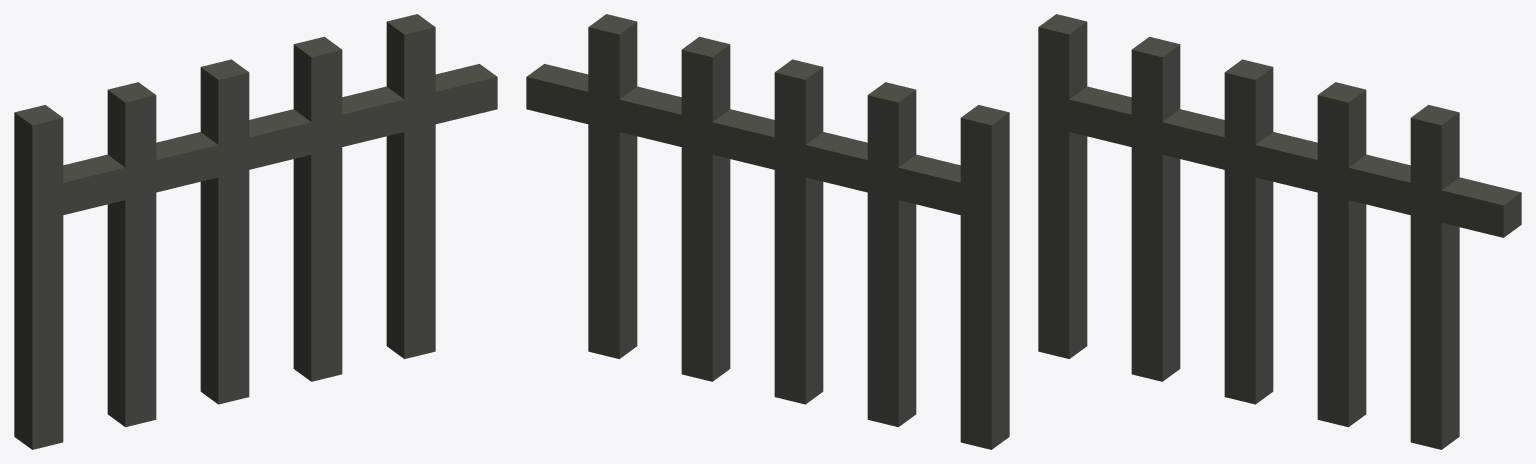
File: church-70-gy_fencemetalal.obj
3 renders of one model, left to right at view 1: azimuth 30°, elevation 25°; view 2: azimuth 150°, elevation 25°; view 3: azimuth 330°, elevation 25°, orthographic.
Visible parts, largest first — view 1: gy_fencemetalal; view 2: gy_fencemetalal; view 3: gy_fencemetalal.
Part boxes in pixels (x1,y1,x2,y2): gy_fencemetalal: (14,14,497,449); gy_fencemetalal: (526,14,1009,449); gy_fencemetalal: (1038,14,1521,449).
Size of the model in its own units: 1.5 by 1 by 0.1.
Materials: 1 (1 with a texture image).
